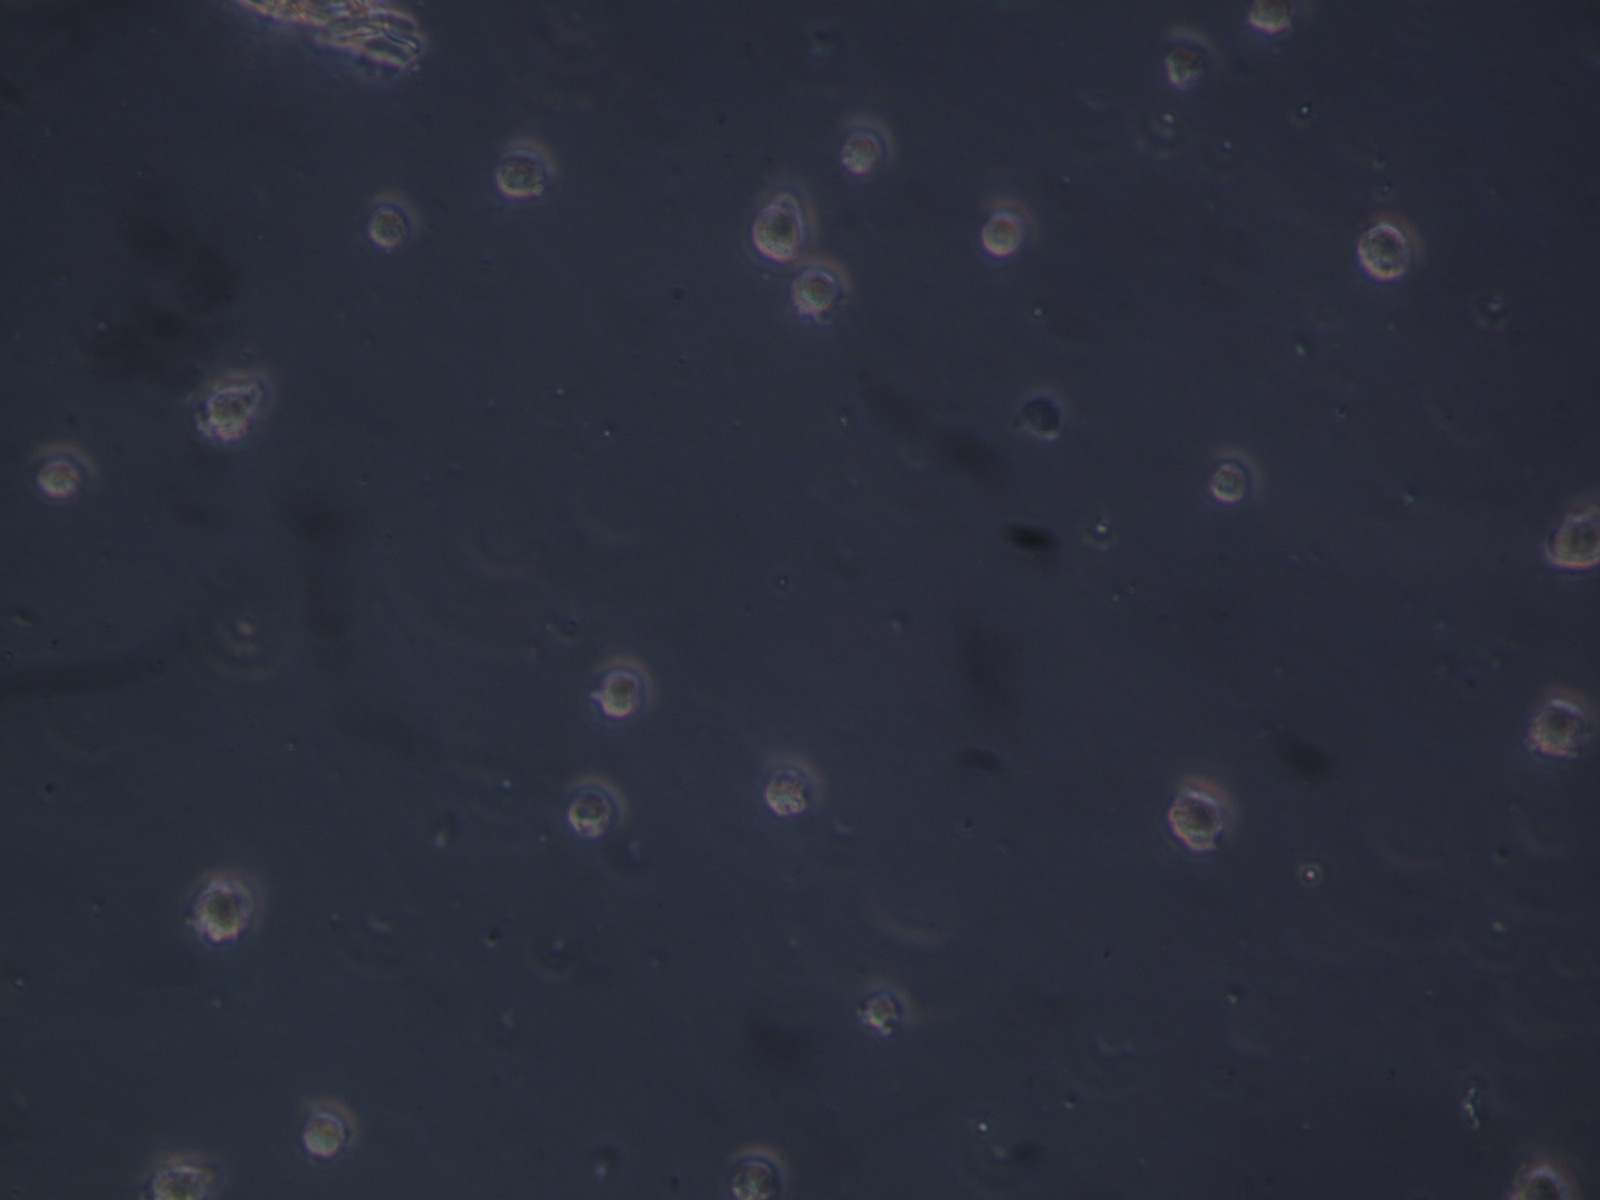hemo: (186, 866, 266, 952), (1168, 775, 1241, 853), (1357, 213, 1424, 287), (590, 654, 659, 722), (1524, 693, 1595, 760), (191, 372, 271, 429), (751, 193, 814, 263), (761, 751, 824, 817), (564, 771, 626, 838), (979, 193, 1039, 261), (29, 444, 98, 503), (838, 113, 896, 184), (1204, 445, 1267, 509), (787, 252, 853, 314), (494, 134, 559, 195), (147, 1151, 229, 1200), (1542, 499, 1600, 568), (295, 1098, 360, 1158), (724, 1146, 791, 1200), (364, 190, 423, 250), (1162, 24, 1220, 84), (1511, 1151, 1580, 1200), (857, 977, 913, 1036)
